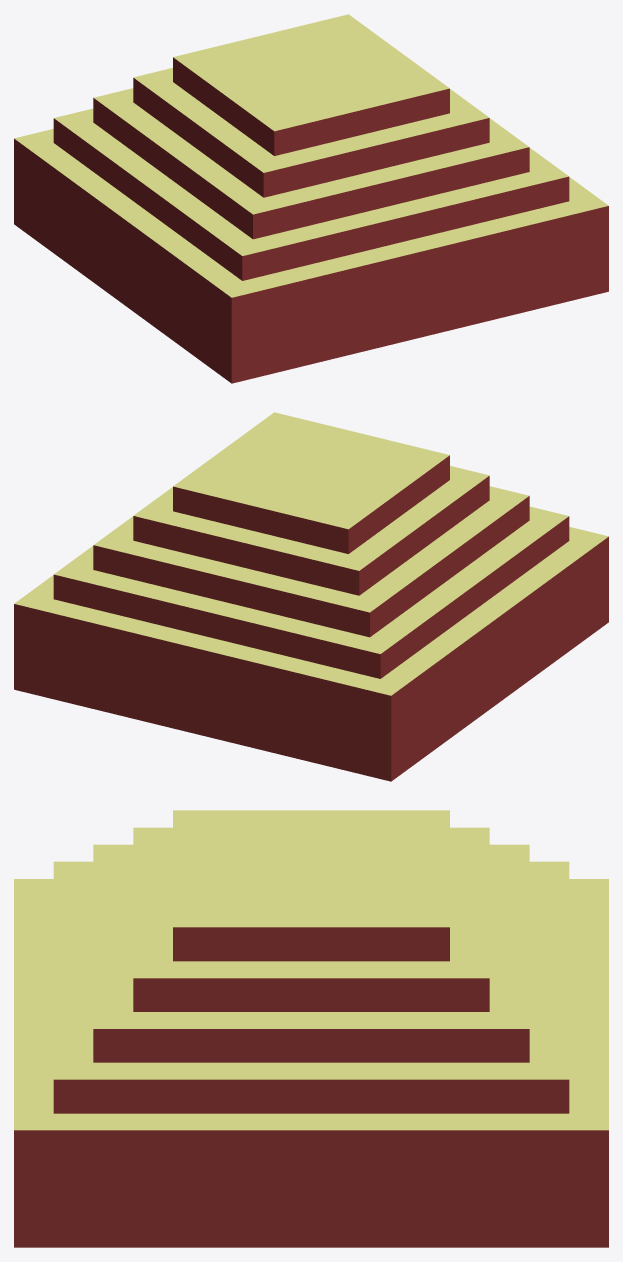
Rendered from Beacon.FBX.
3 views of the same model, one above another, from view 1: azimuth 30°, elevation 25°; view 2: azimuth 150°, elevation 25°; view 3: azimuth 270°, elevation 25° (orthographic). The views are drawn at different scales.
Parts seen in each view (by area): view 1: Altar; view 2: Altar; view 3: Altar.
Part boxes in pixels (x1,y1,x2,y2): Altar: (14, 14, 608, 383); Altar: (14, 412, 608, 781); Altar: (14, 810, 608, 1247).
Bounding box in the file's own units: 6 × 2.81 × 6.
